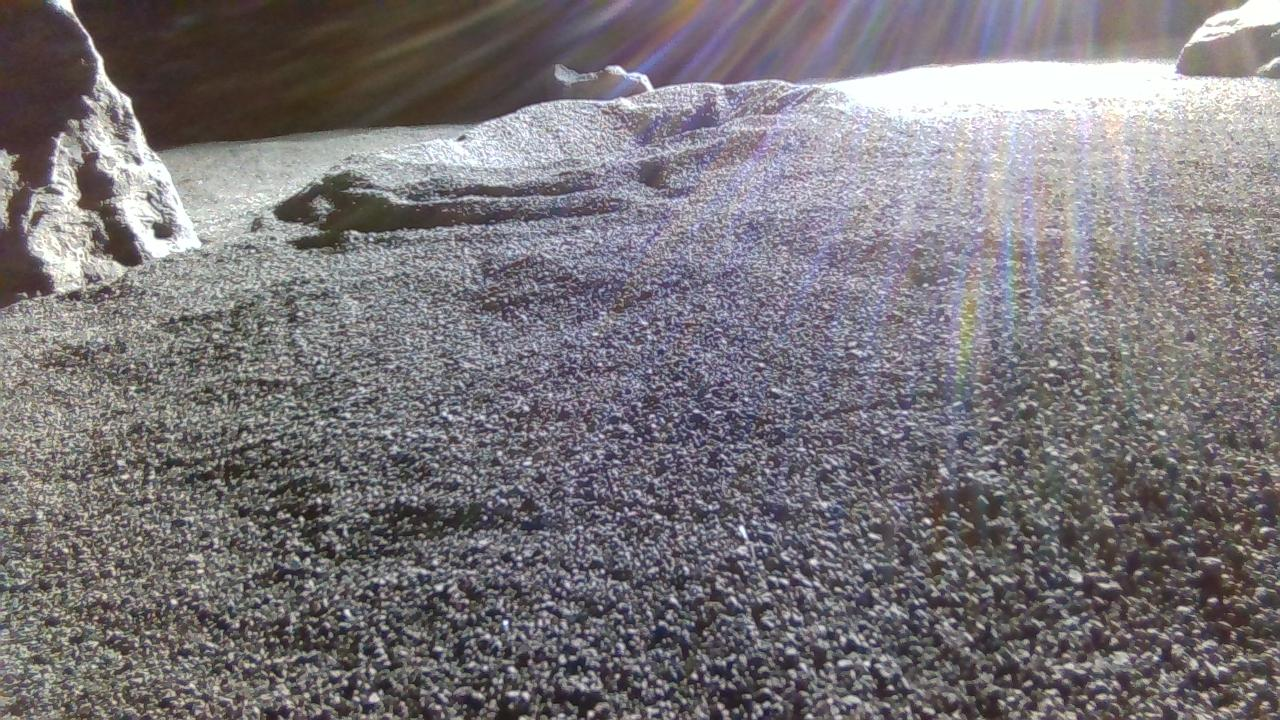rock: (1179, 0, 1280, 79), (555, 62, 654, 99)
